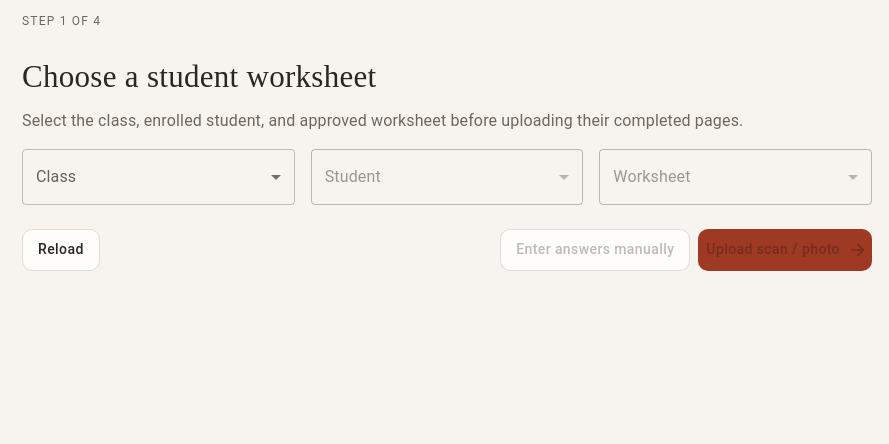
Test: Tutor upload wizard › shows a safe empty state when no worksheet is available for the selected relationship
Step 1. Click the 1st dropdown named "Class" → [158, 176], box [22, 148, 295, 204]
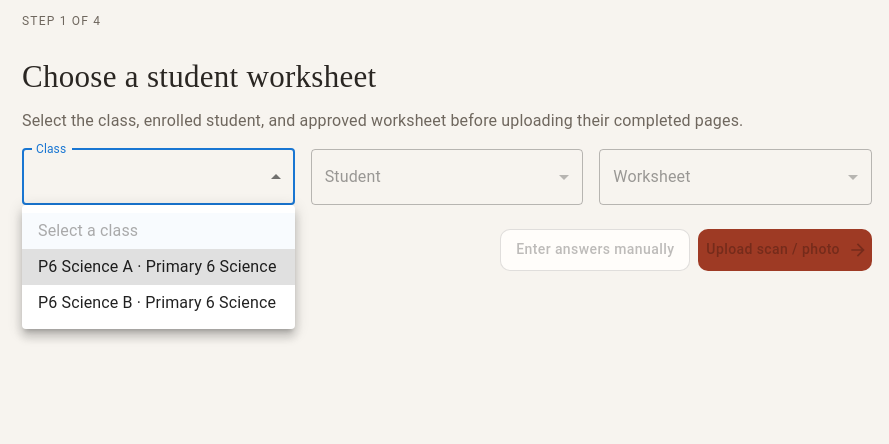
Step 2. Click the option "P6 Science A · Primary 6 Science" → [158, 267], box [22, 249, 295, 285]
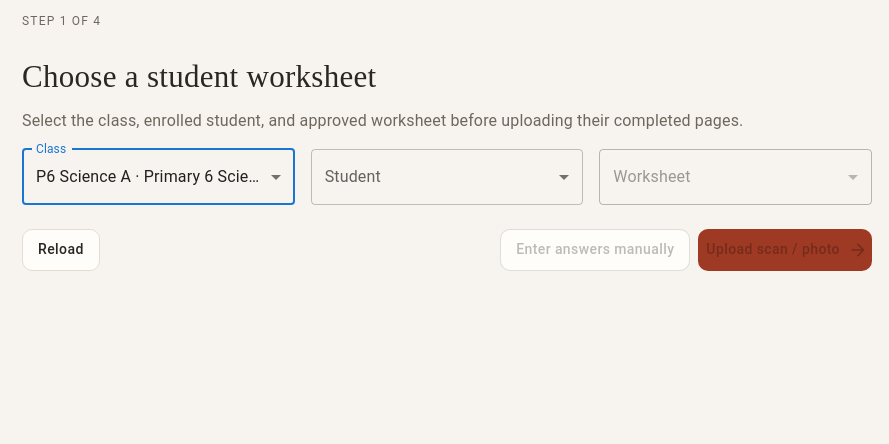
Step 3. Click the 1st dropdown named "Student" → [447, 176], box [311, 148, 583, 204]
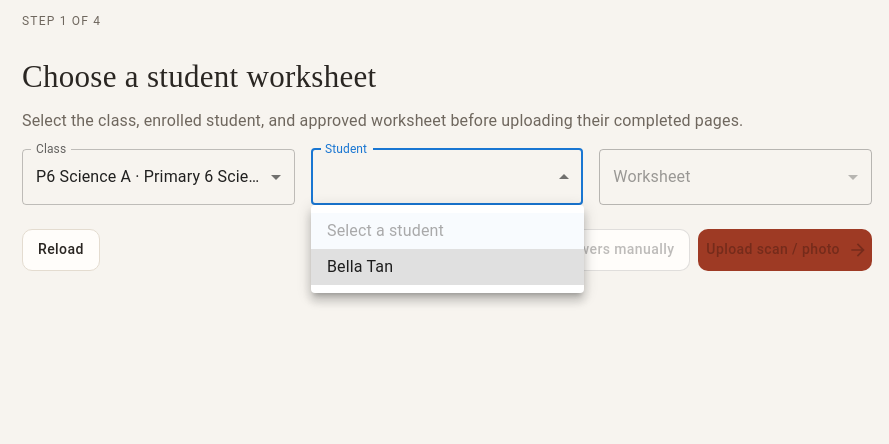
Step 4. Click the option "Bella Tan" → [360, 266], box [311, 249, 584, 285]
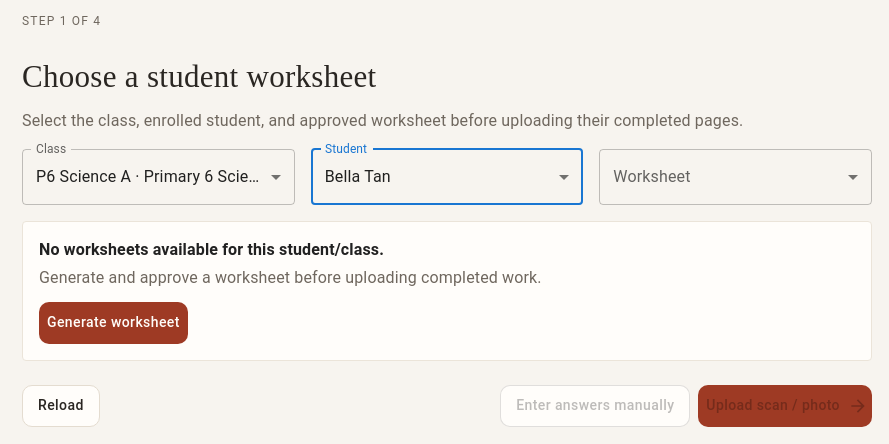
Check: the button "Upload scan / photo" is disabled, box [698, 384, 872, 426]
Check: the text "No worksheets available for this student/class." is shown, box [39, 240, 384, 258]
